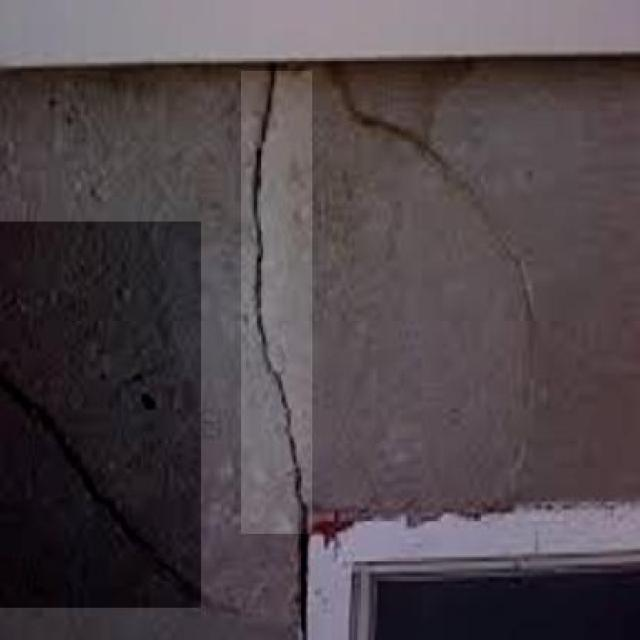Crack: (0, 364, 190, 612), (239, 68, 321, 540), (483, 213, 564, 508), (333, 58, 462, 155), (274, 551, 316, 639)
